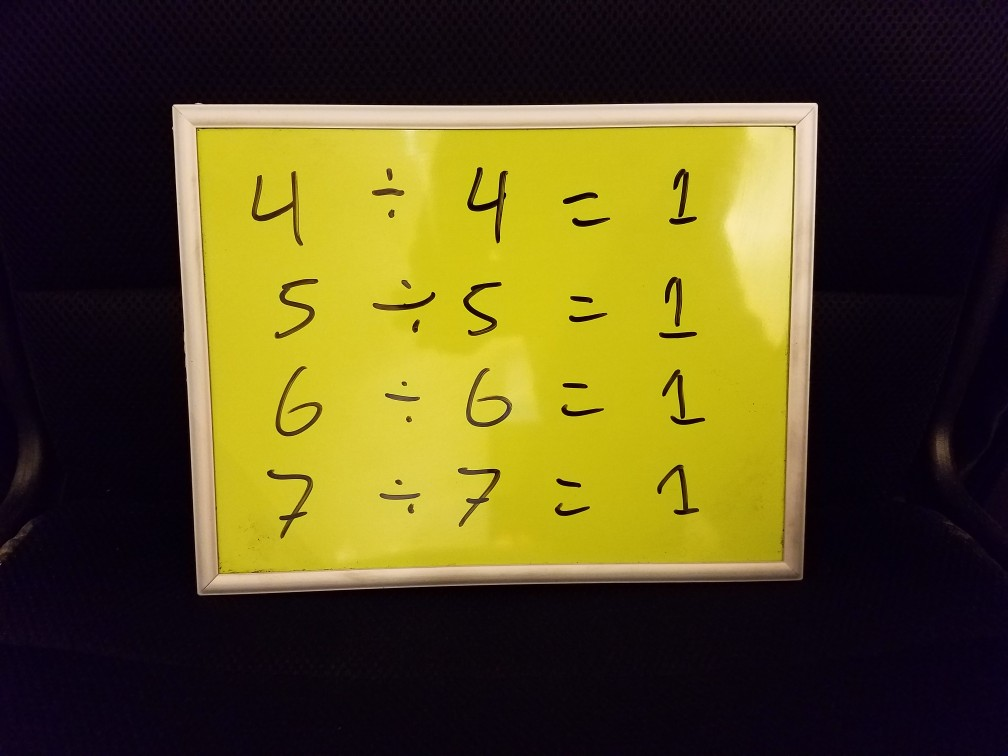1: (647, 270, 704, 347), (654, 362, 710, 435), (652, 456, 704, 526), (660, 163, 699, 228)
4: (246, 162, 315, 253), (462, 157, 516, 246)
5: (265, 275, 326, 345), (453, 275, 510, 340)
6: (265, 362, 330, 446), (457, 359, 513, 433)
7: (257, 462, 320, 545), (451, 453, 504, 533)
=: (552, 181, 616, 233), (546, 463, 595, 526), (550, 374, 611, 424), (557, 282, 611, 330)
div: (368, 270, 438, 340), (369, 468, 429, 523), (377, 370, 430, 432), (369, 162, 409, 223)
